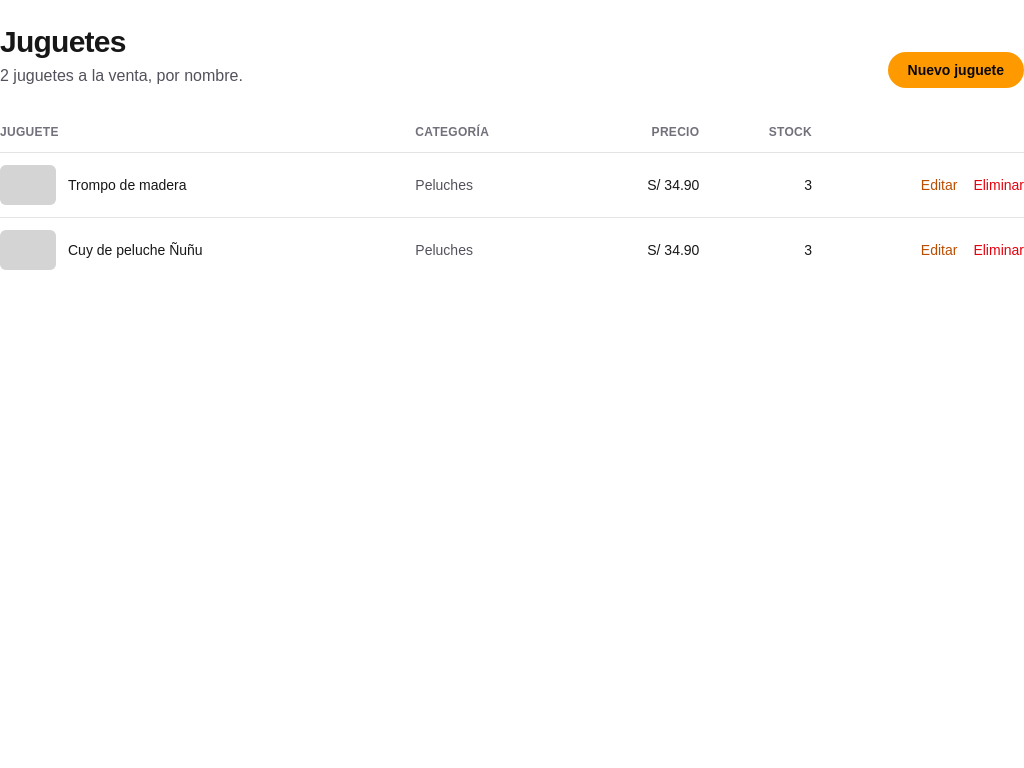
Test case: VistaAdminJuguetes: eliminar (HU-20) › si otro administrador ya lo eliminó (404), lo quita de la lista y lo avisa
What coordinates should you click on to do the following:
click the button with aria-label "Eliminar Trompo de madera"
I would click on:
 (999, 185)
Its box is [973,175,1023,195].
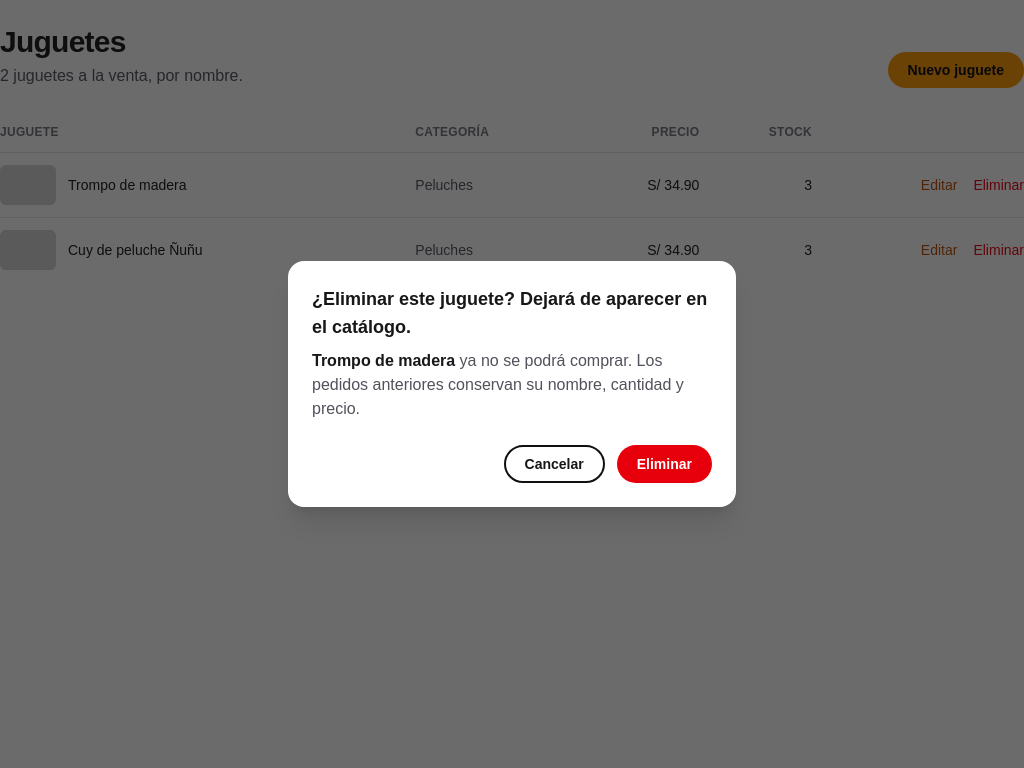
What coordinates should you click on to do the following:
click the button "Eliminar"
I would click on:
 (664, 464)
Its box is [617,445,712,483].
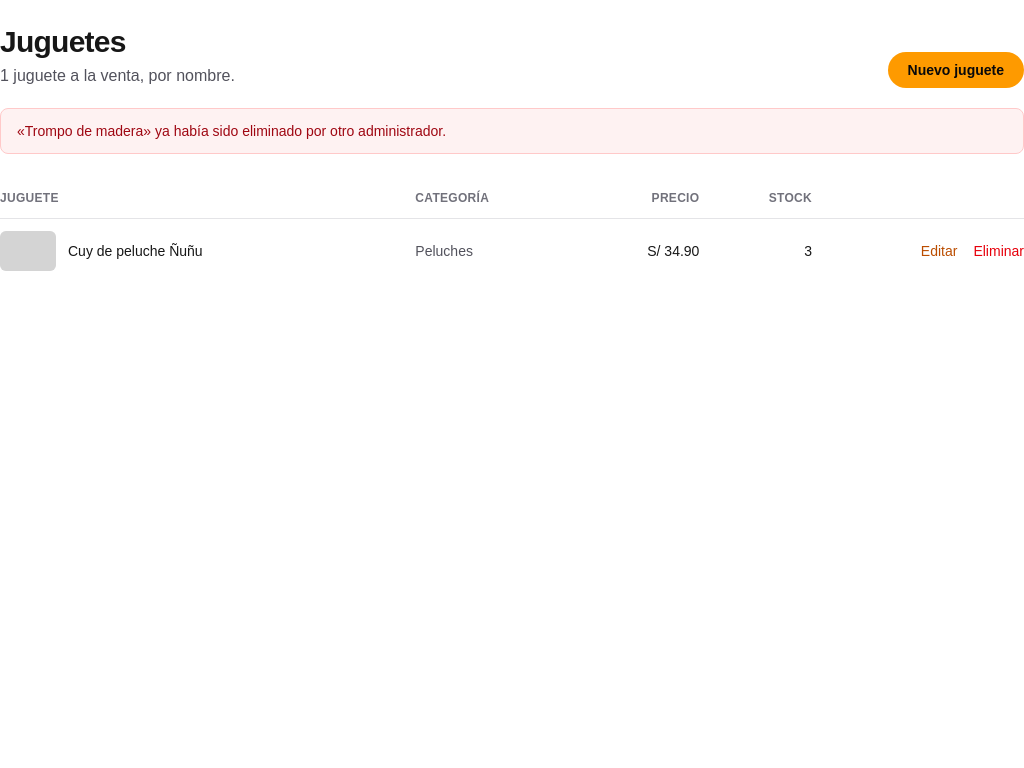
Expected: the message reads "«Trompo de madera» ya había sido eliminado por otro administrador.", [17,123,446,139]
